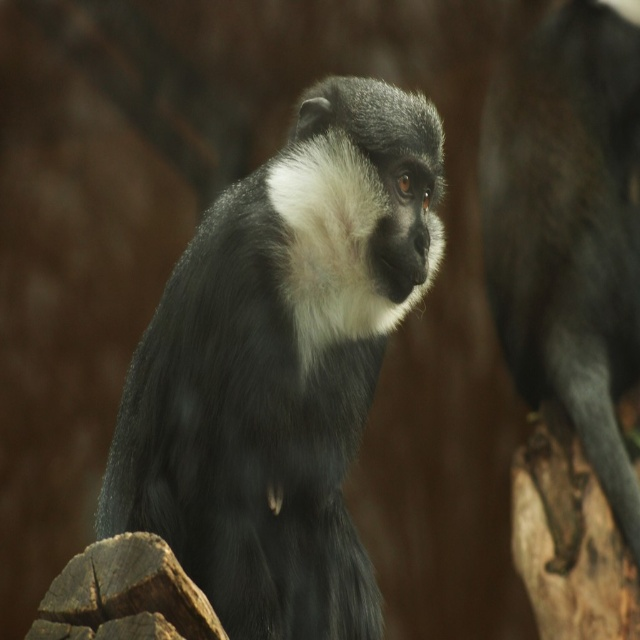Monkey: (96, 73, 442, 638)
